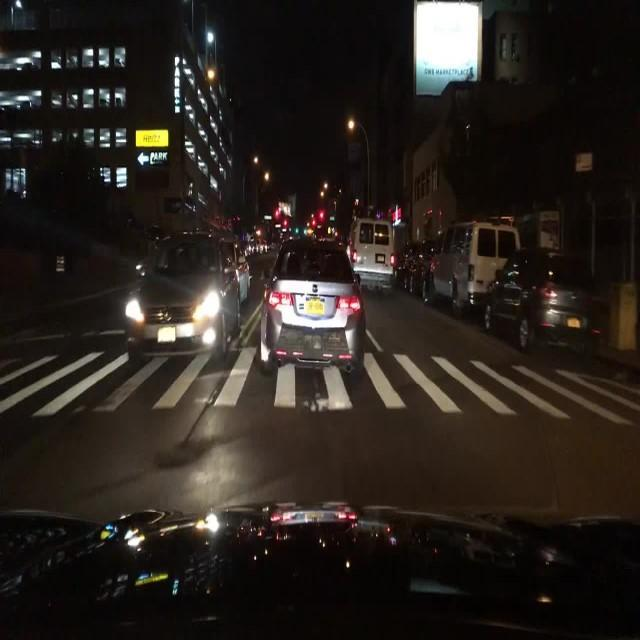normal: (82, 202, 413, 392)
